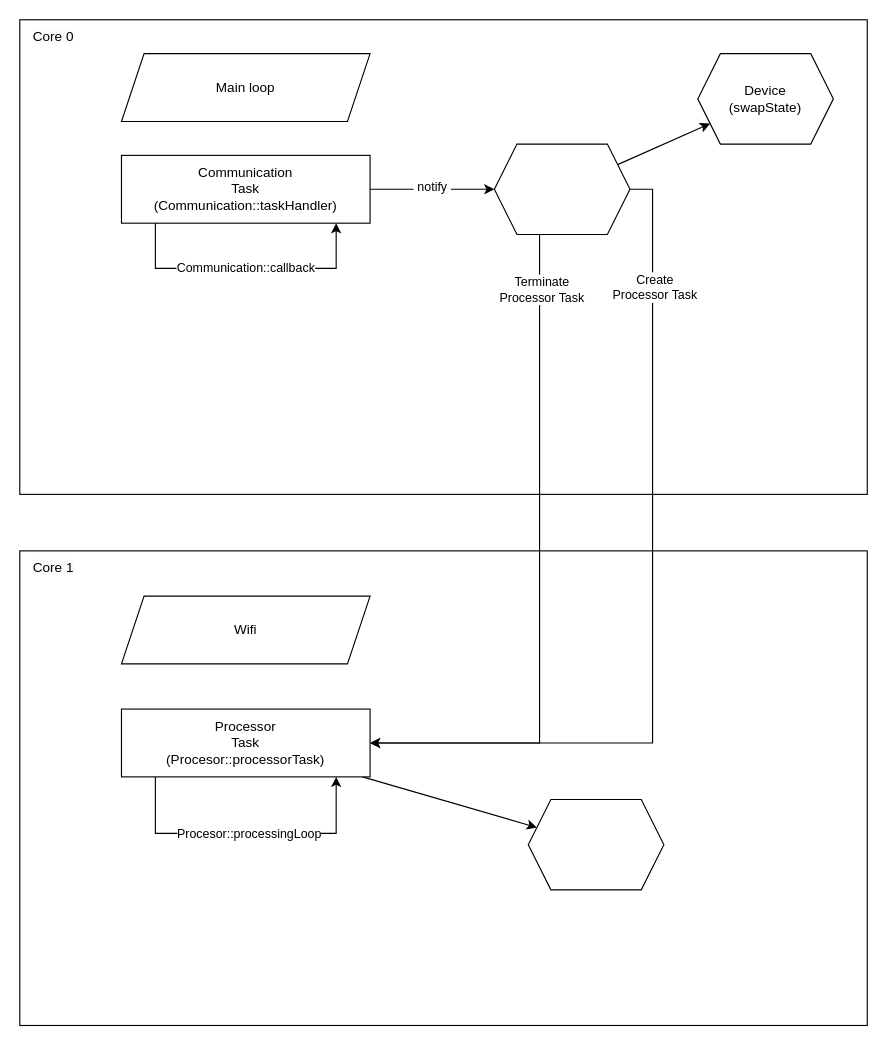
Some shapes in this 887 by 1045 pixel diagram are drawn without their labels. The centre of each missing label's shape, as x and y in pixels:
"Effect (loop)" belongs at pixel 595 844.
"Processor (notify)" belongs at pixel 561 188.
